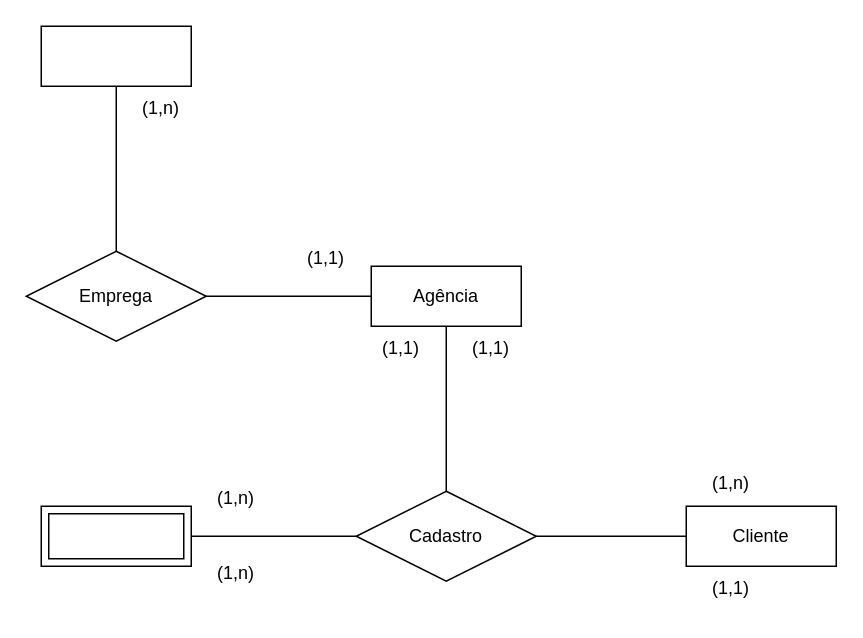
The diagram is 863 pixels wide and 638 high, and some of its shapes have lost their labels. The centre of each missing label's shape, as x and y in pixels:
Conta: the point at 115,535
Funcionário: the point at 115,55
